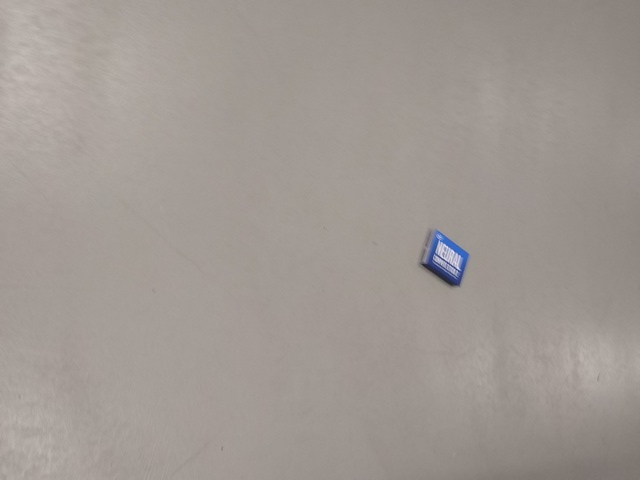box: (419, 229, 470, 287)
